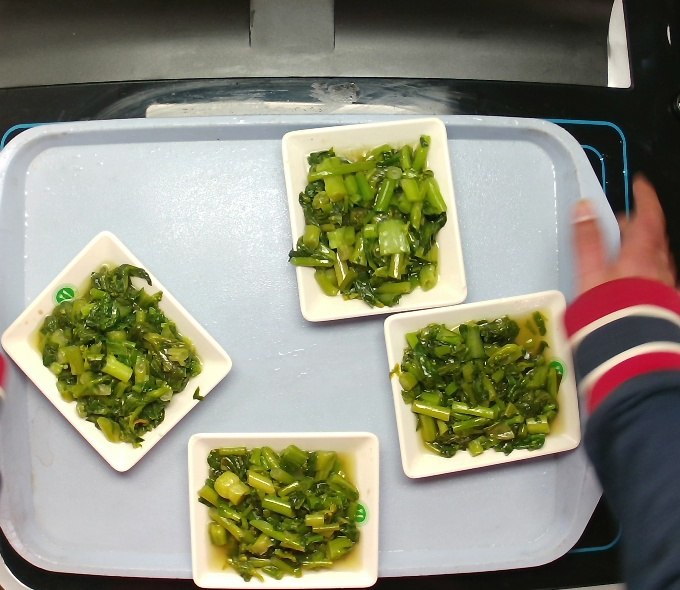wcq-YouCaiHua: (29, 258, 200, 452), (391, 300, 570, 468), (198, 432, 367, 589), (291, 139, 450, 302)
